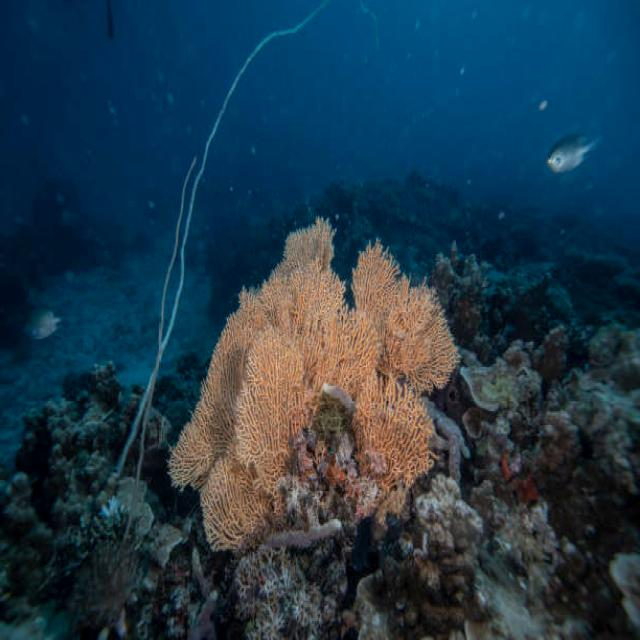Coral: (166, 216, 460, 554)
